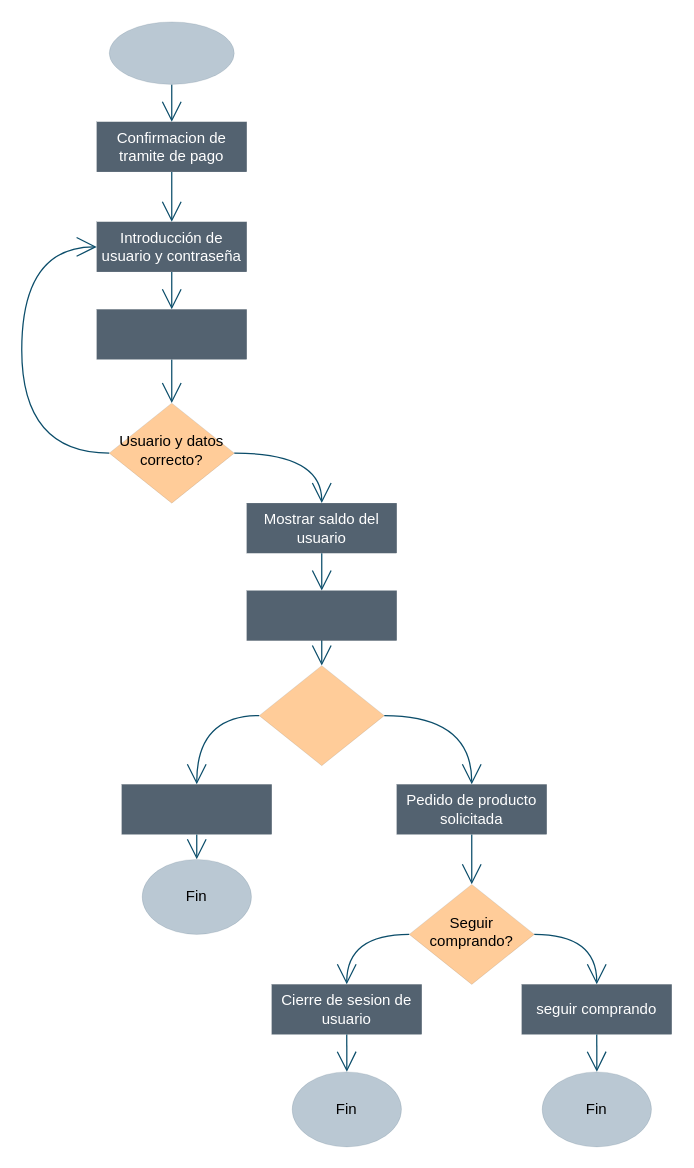
Some shapes in this 694 by 1168 pixel diagram are drawn without their labels. The centre of each missing label's shape, as x and y in pixels:
"Cancelación de pago" belongs at point (196, 809).
"confirma el pago?" belongs at point (321, 715).
"Confirmar Compra" belongs at point (171, 334).
"Inicio" belongs at point (171, 52).
"Petcion de confirmación" belongs at point (321, 615).
